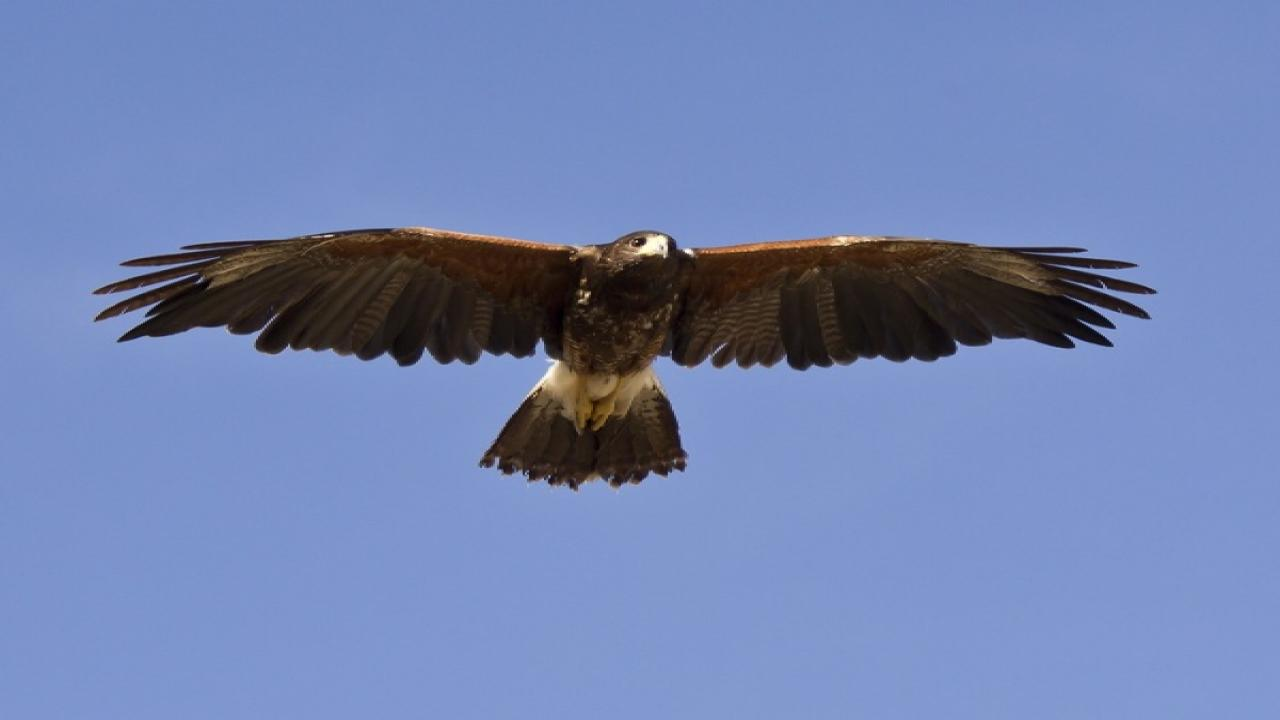Bird: (87, 221, 1168, 501)
